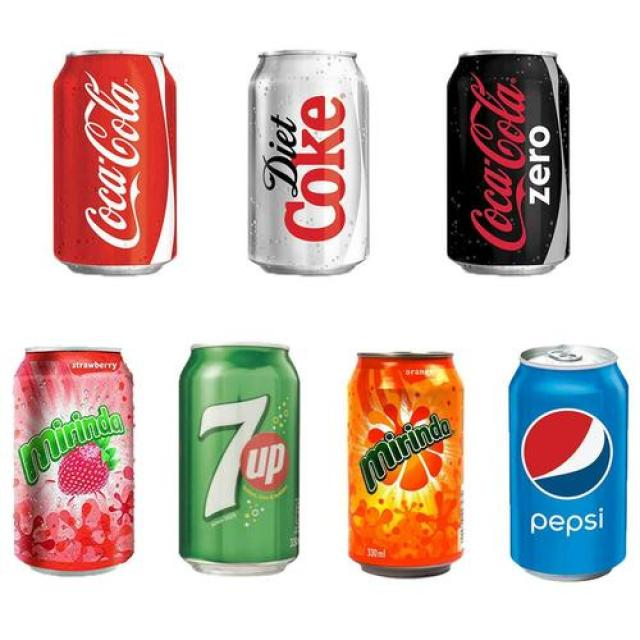soda_can: (55, 39, 196, 291), (162, 339, 301, 587), (348, 339, 479, 600), (497, 342, 640, 581), (6, 338, 143, 584), (433, 19, 563, 276), (232, 48, 376, 272)
